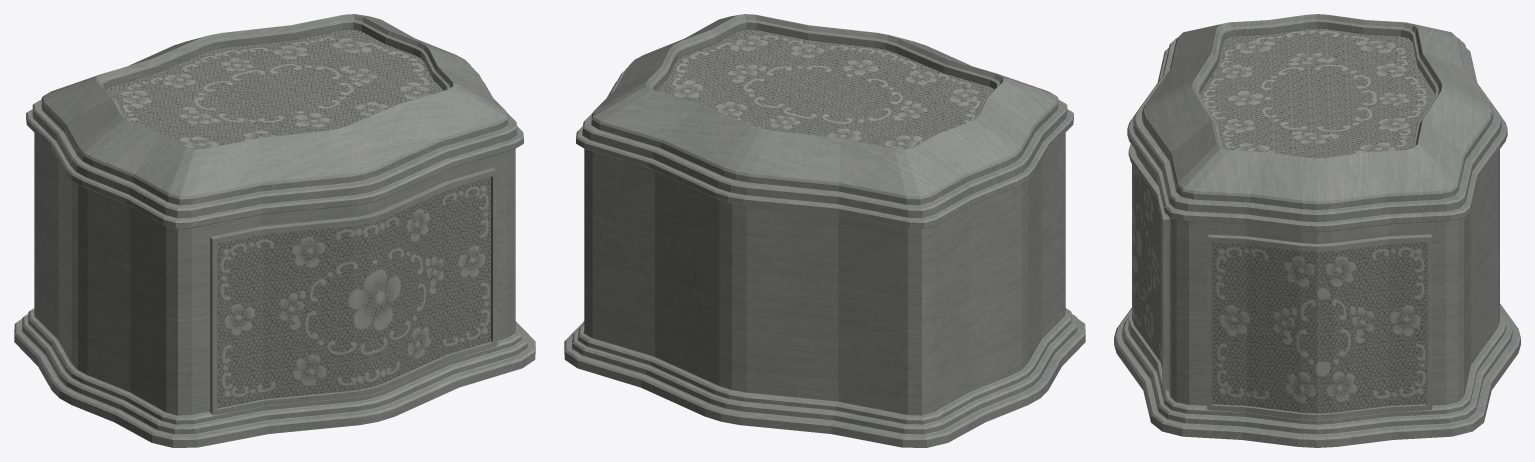
Rendered from JewlryBox.fbx.
The picture shows the model from 3 angles, left to right: view 1: azimuth 30°, elevation 25°; view 2: azimuth 150°, elevation 25°; view 3: azimuth 270°, elevation 25°; orthographic projection. The views are drawn at different scales.
Visible parts, largest first — view 1: polySurface24, polySurface19; view 2: polySurface24, polySurface19; view 3: polySurface24, polySurface19.
Part boxes in pixels (x1=…): polySurface24: x1=14, y1=133, x2=535, y2=447; polySurface19: x1=26, y1=14, x2=523, y2=228; polySurface24: x1=564, y1=133, x2=1085, y2=447; polySurface19: x1=576, y1=14, x2=1073, y2=228; polySurface24: x1=1114, y1=143, x2=1520, y2=447; polySurface19: x1=1127, y1=14, x2=1507, y2=232.
Bounding box in the file's own units: 7.83 × 4.59 × 6.53.
